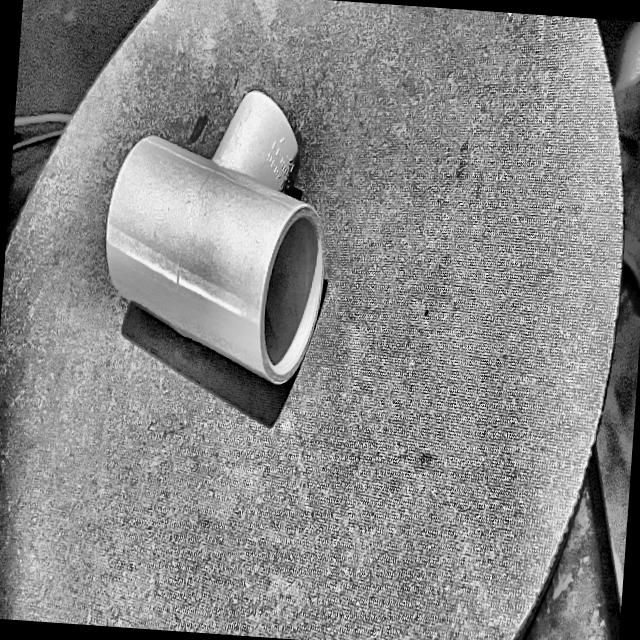EQUALTEE: (105, 90, 326, 392)
